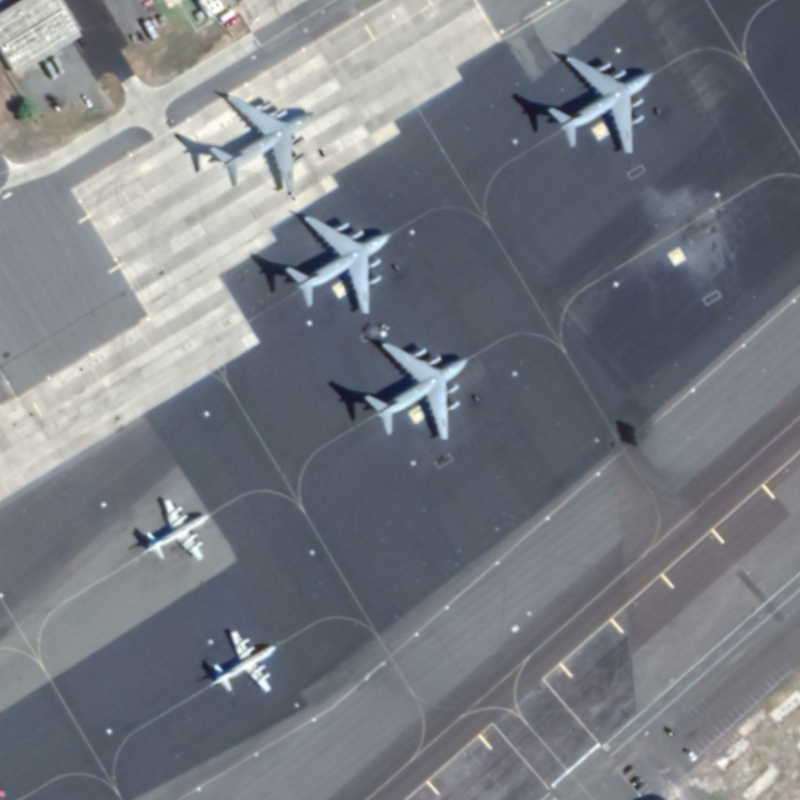A3: (360, 338, 473, 445), (281, 212, 395, 318), (546, 50, 658, 156), (208, 90, 315, 195)
A9: (203, 626, 278, 699), (137, 493, 210, 565)
